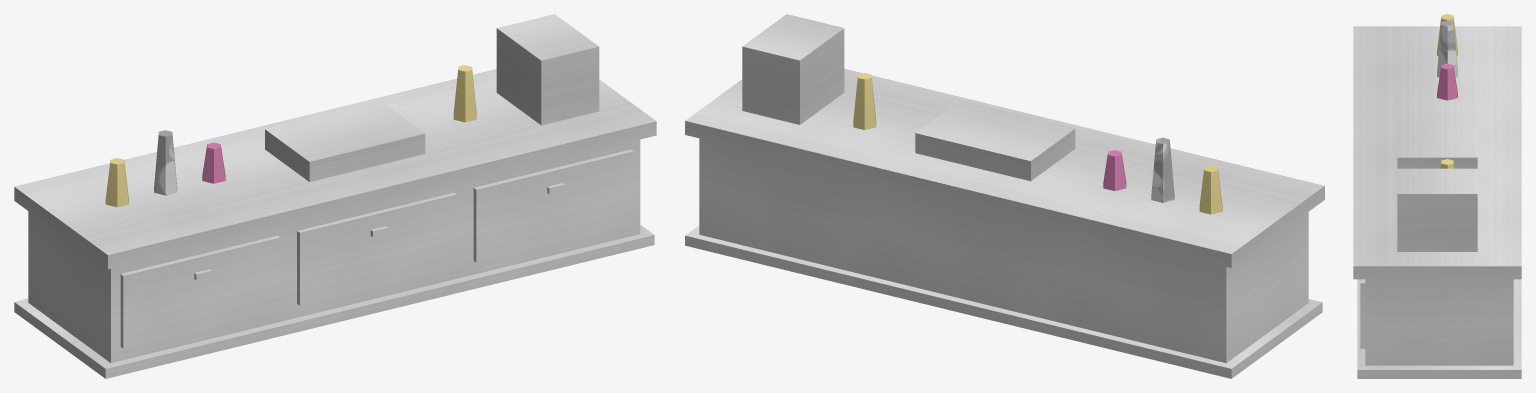
File: bench_drug.obj
3 renders of one model, left to right at view 1: azimuth 30°, elevation 25°; view 2: azimuth 150°, elevation 25°; view 3: azimuth 270°, elevation 25°, orthographic. The views are drawn at different scales.
Visible parts, largest first — view 1: bench_drug; view 2: bench_drug; view 3: bench_drug.
Boxes of the visible parts, x1,y1,x2,y2 form: bench_drug: (14,14,656,378); bench_drug: (685,14,1324,378); bench_drug: (1353,14,1521,378).
Bounding box in the file's own units: 2.84 × 0.94 × 0.84.
